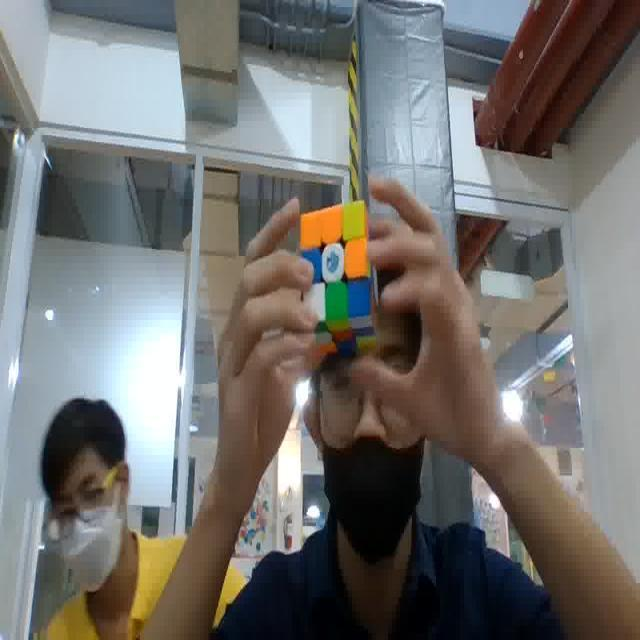Rub: (296, 197, 388, 360)
